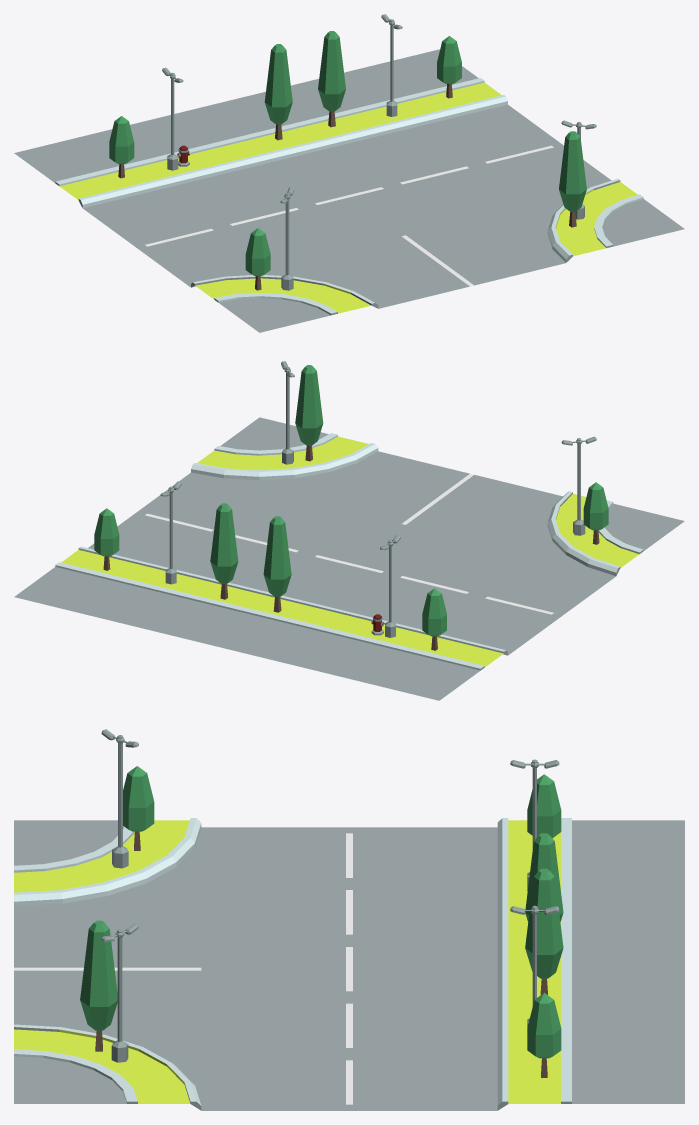
The model's file is Tile_Road_T_Base.fbx.
The picture shows the model from 3 angles, top to bottom: view 1: azimuth 30°, elevation 25°; view 2: azimuth 150°, elevation 25°; view 3: azimuth 270°, elevation 25°; orthographic projection. The views are drawn at different scales.
Parts seen in each view (by area): view 1: Plane.007; view 2: Plane.007; view 3: Plane.007.
Boxes of the visible parts, x1=… form: Plane.007: x1=14, y1=14, x2=684, y2=332; Plane.007: x1=14, y1=361, x2=684, y2=700; Plane.007: x1=14, y1=729, x2=684, y2=1110.
Bounding box in the file's own units: 250 × 55.99 × 250.
